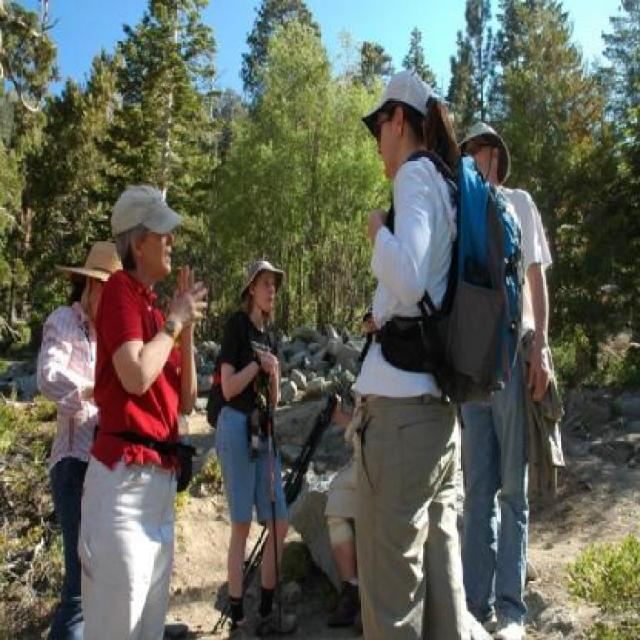backpack: (448, 143, 529, 412)
